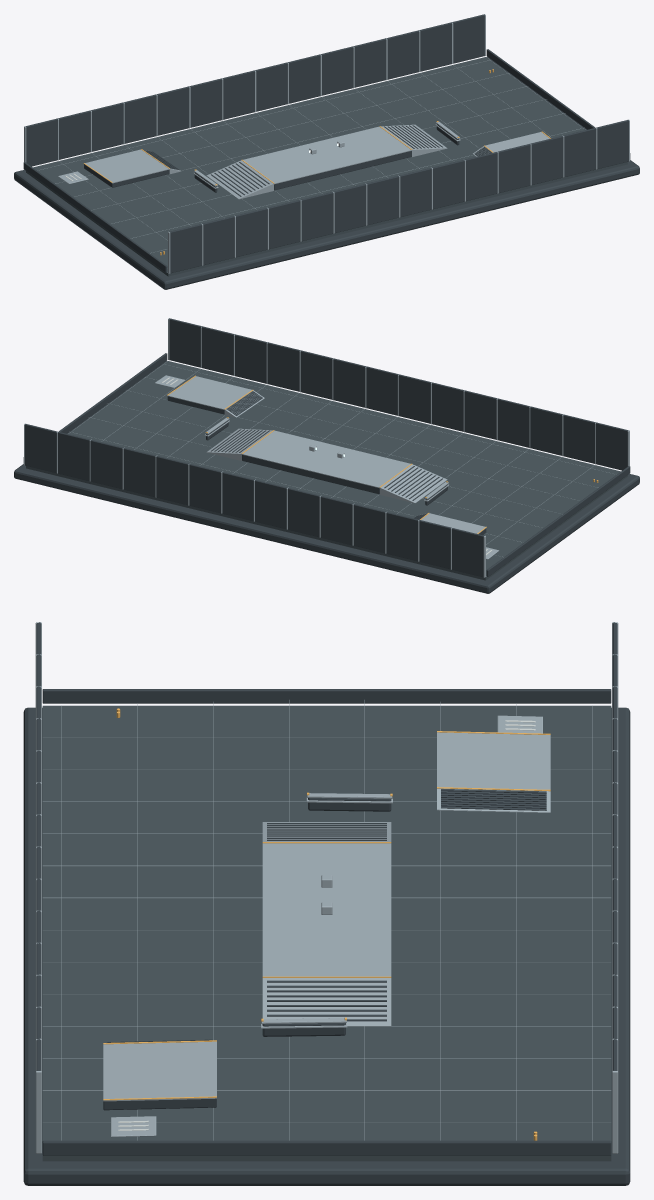
File: map-rmuc2026.glb
3 views of the same model, one above another, from view 1: azimuth 30°, elevation 25°; view 2: azimuth 150°, elevation 25°; view 3: azimuth 270°, elevation 25° (orthographic). The views are drawn at different scales.
Visible parts, largest first — view 1: Arena_GraphiteArmor, CompetitionFloor, Arena_BrushedTitanium; view 2: Arena_GraphiteArmor, CompetitionFloor, Arena_BrushedTitanium; view 3: CompetitionFloor, Arena_GraphiteArmor, Arena_BrushedTitanium, Arena_WarningAmber.
Part boxes in pixels (bbox=[...]): Arena_GraphiteArmor: bbox=[14, 14, 639, 289]; CompetitionFloor: bbox=[26, 57, 627, 276]; Arena_BrushedTitanium: bbox=[24, 14, 629, 273]; Arena_GraphiteArmor: bbox=[14, 318, 639, 593]; CompetitionFloor: bbox=[26, 361, 627, 580]; Arena_BrushedTitanium: bbox=[24, 318, 629, 577]; CompetitionFloor: bbox=[42, 706, 611, 1161]; Arena_GraphiteArmor: bbox=[23, 622, 630, 1185]; Arena_BrushedTitanium: bbox=[35, 622, 618, 1153]; Arena_WarningAmber: bbox=[103, 708, 550, 1140].
Size of the model in its own units: 29 by 3.16 by 16.
